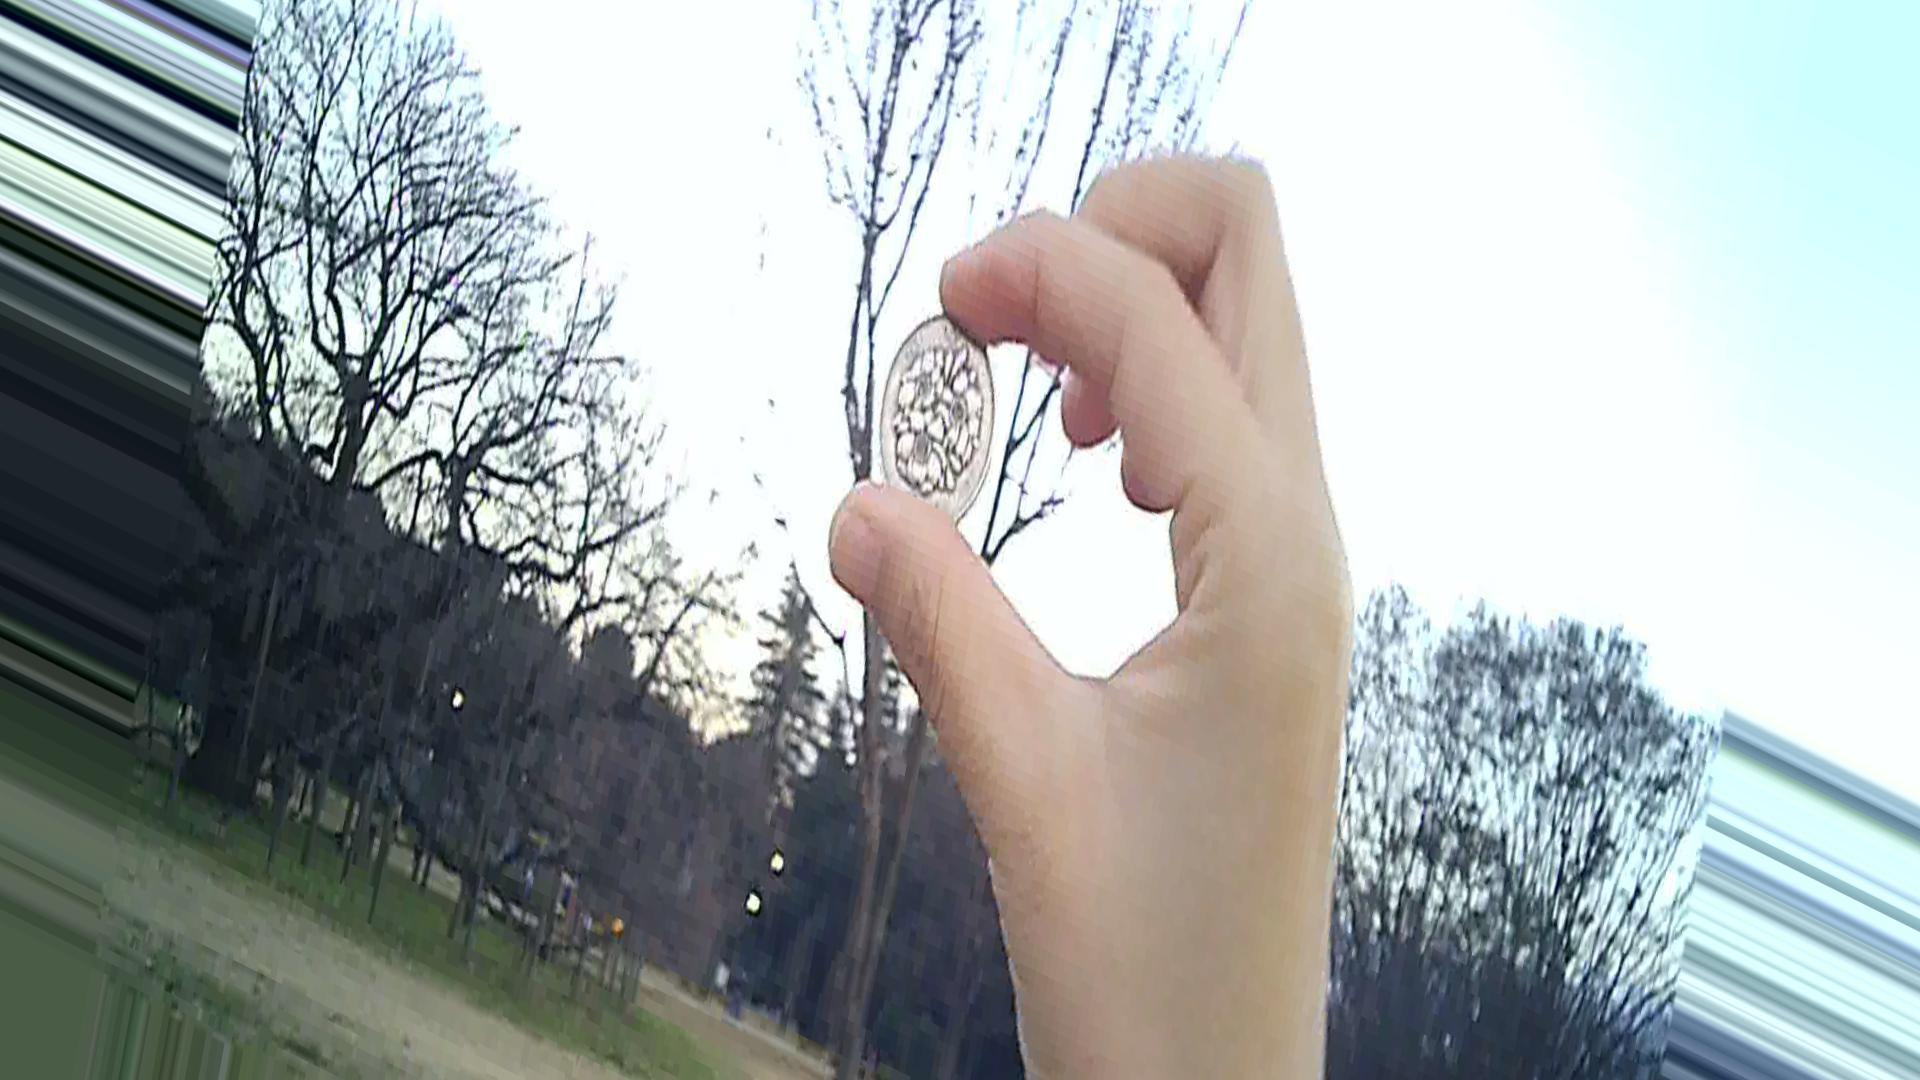100 Yen: (878, 306, 988, 553)
